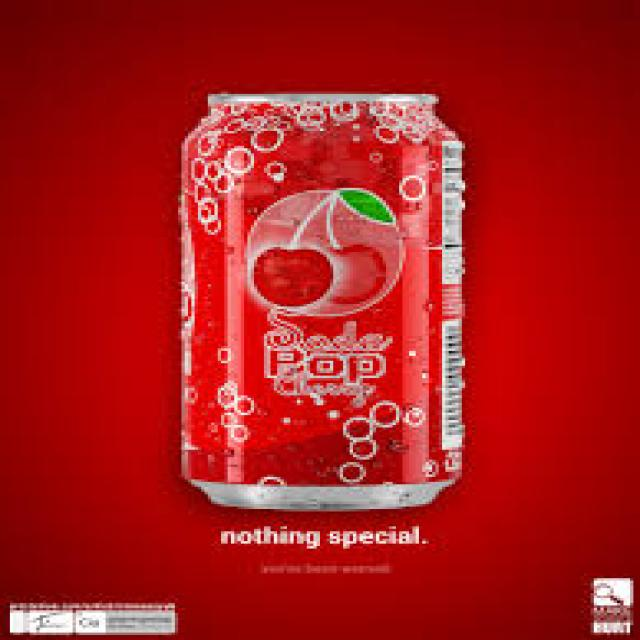Cans: (158, 74, 488, 524)
